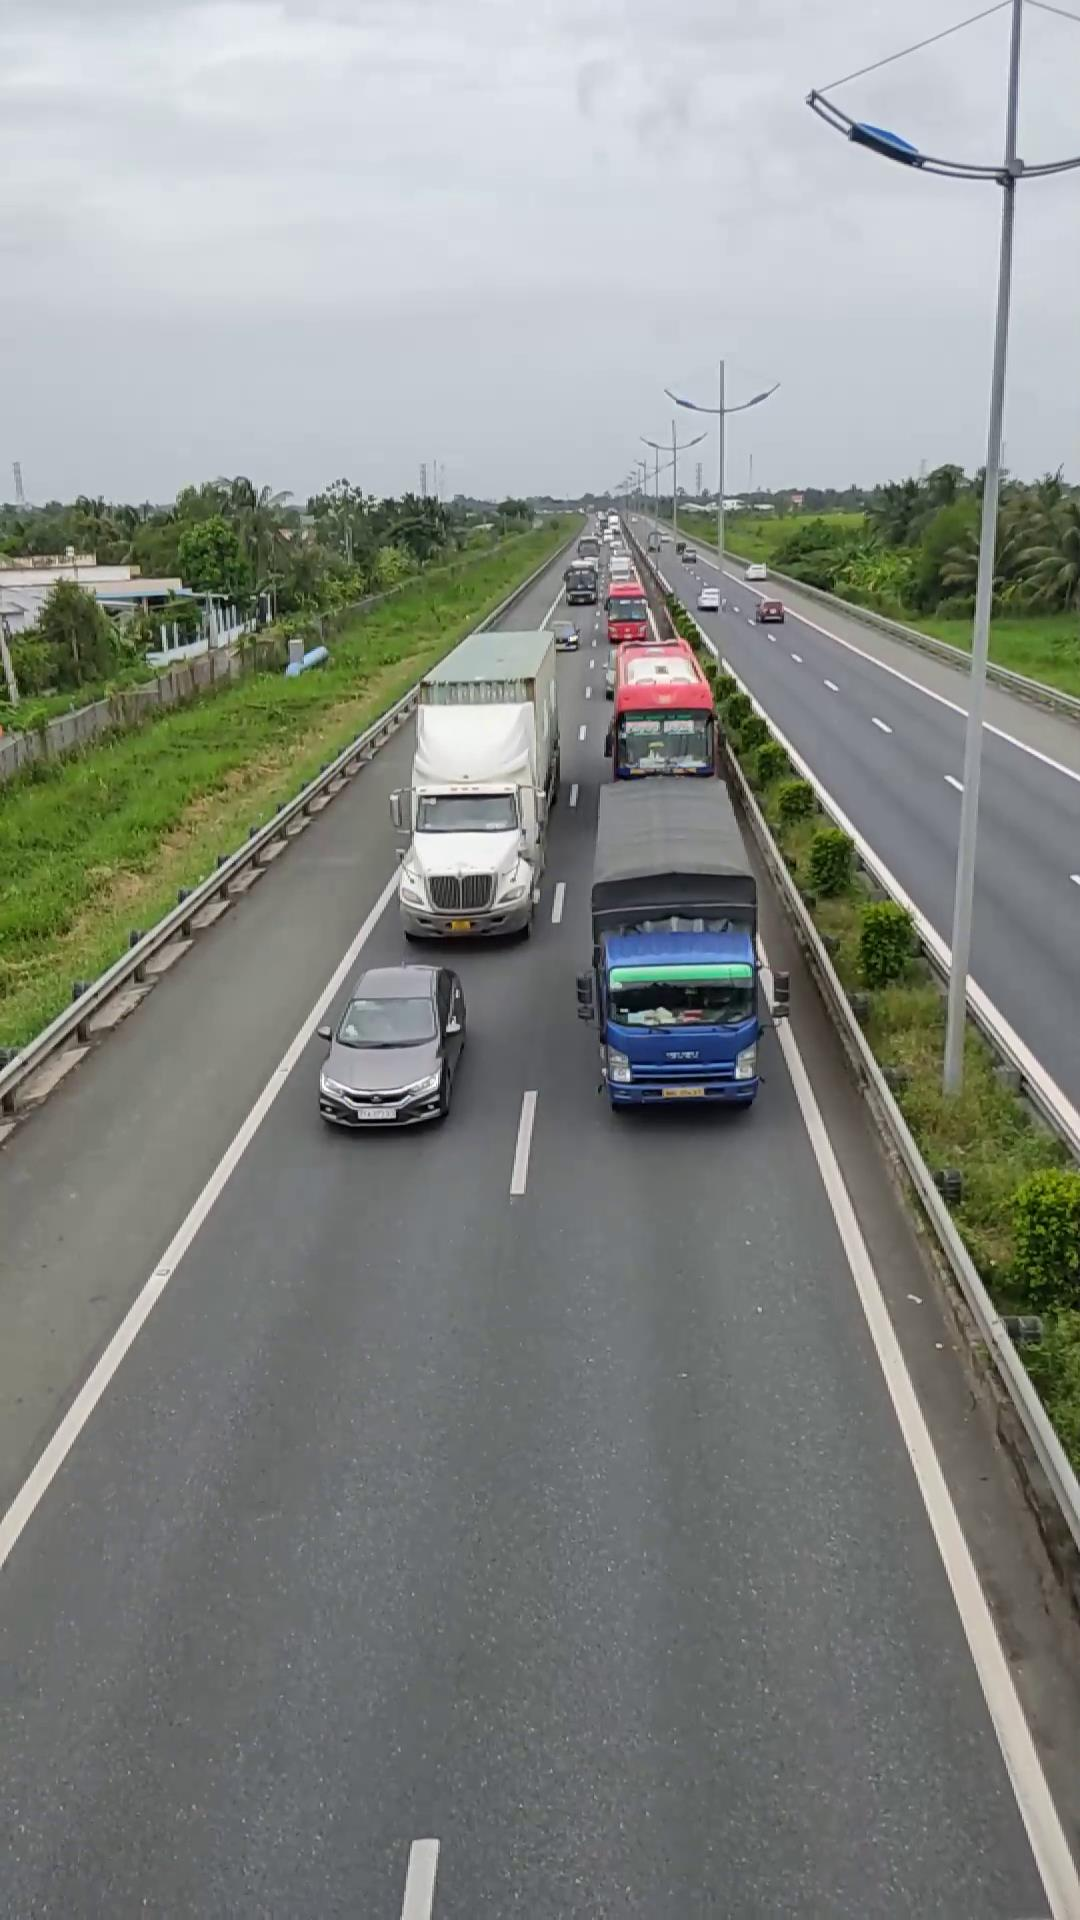car: (316, 961, 469, 1131)
container: (394, 626, 560, 944)
truck: (578, 773, 769, 1114)
